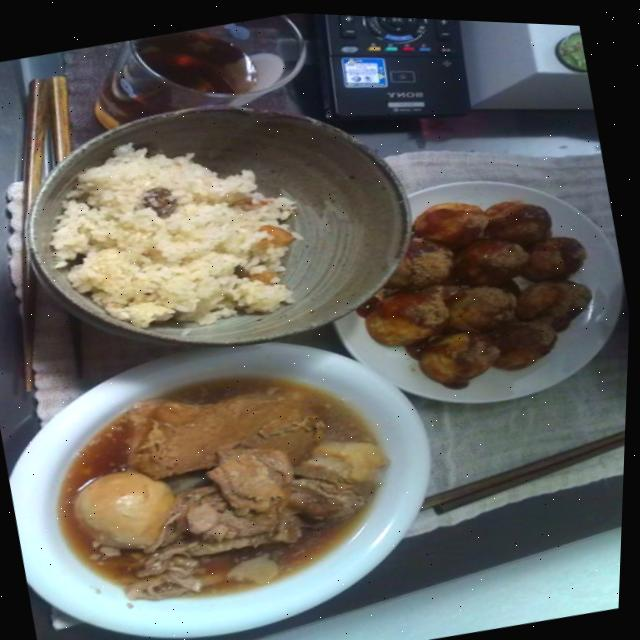米饭主食: (4, 56, 438, 392)
